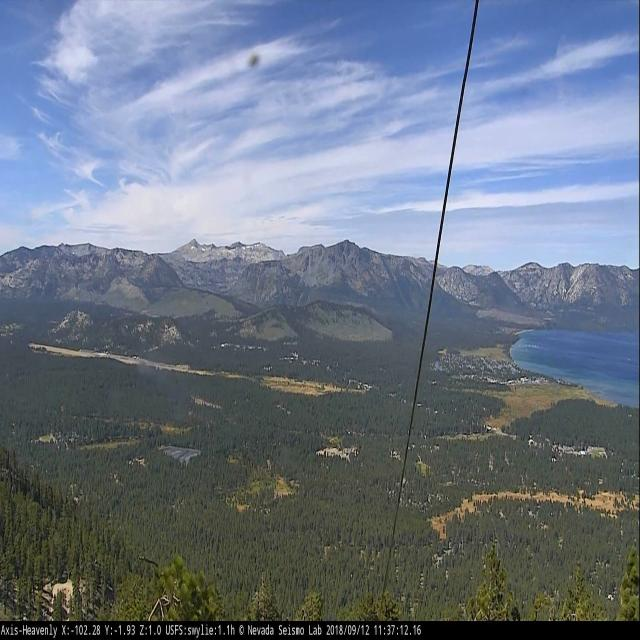smoke: (136, 348, 163, 381)
